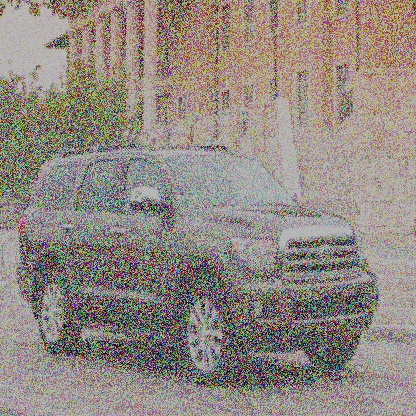Vehicle: (15, 143, 381, 387)
